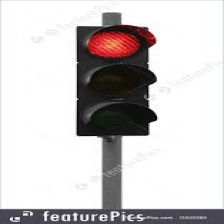semaforo: (76, 25, 158, 135)
